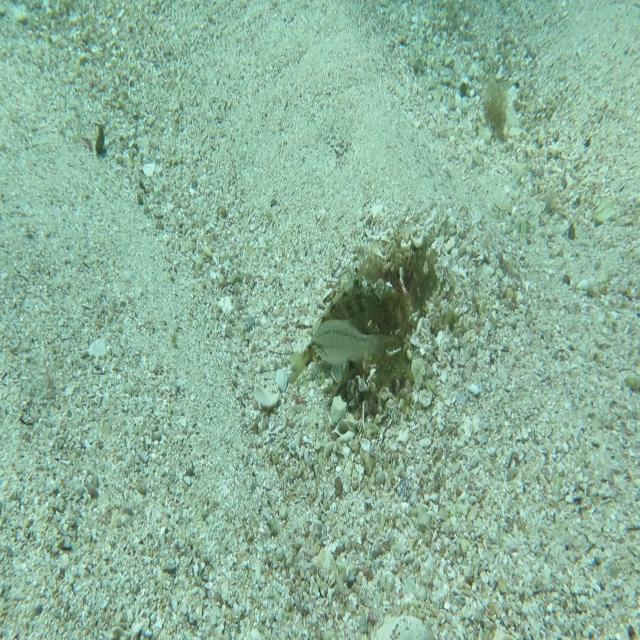LF: (288, 264, 401, 384)
female: (308, 315, 396, 374)
nest: (322, 229, 442, 425)
